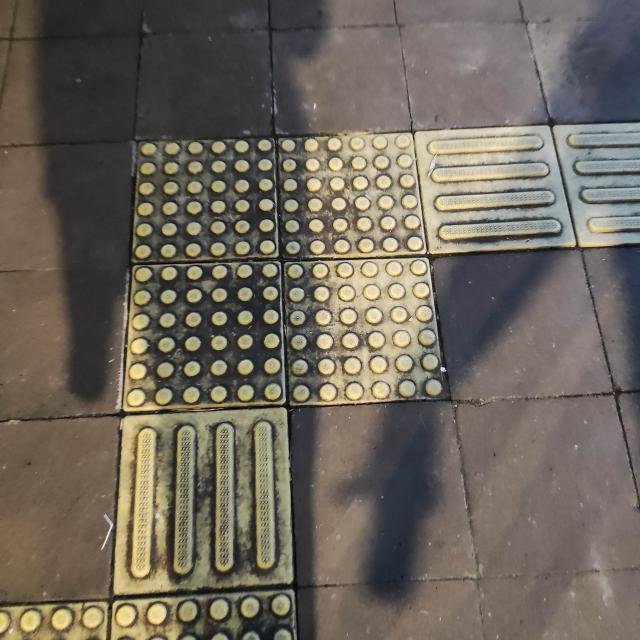kanan: (51, 83, 640, 508)
